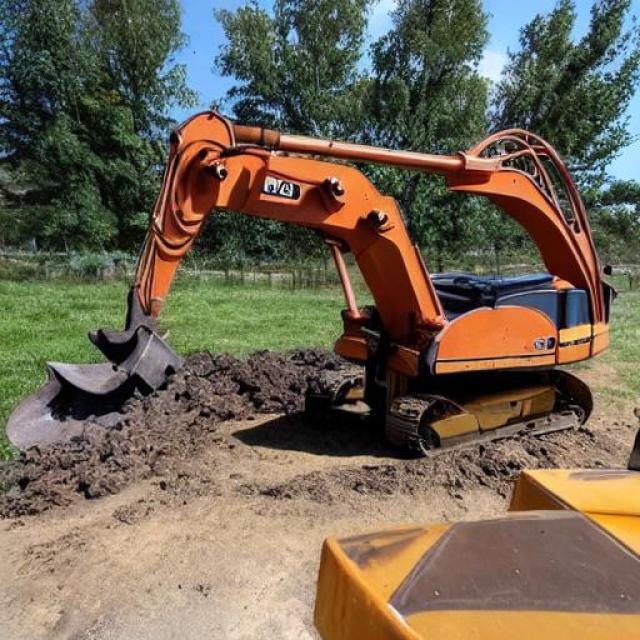excavator: (353, 24, 575, 297)
